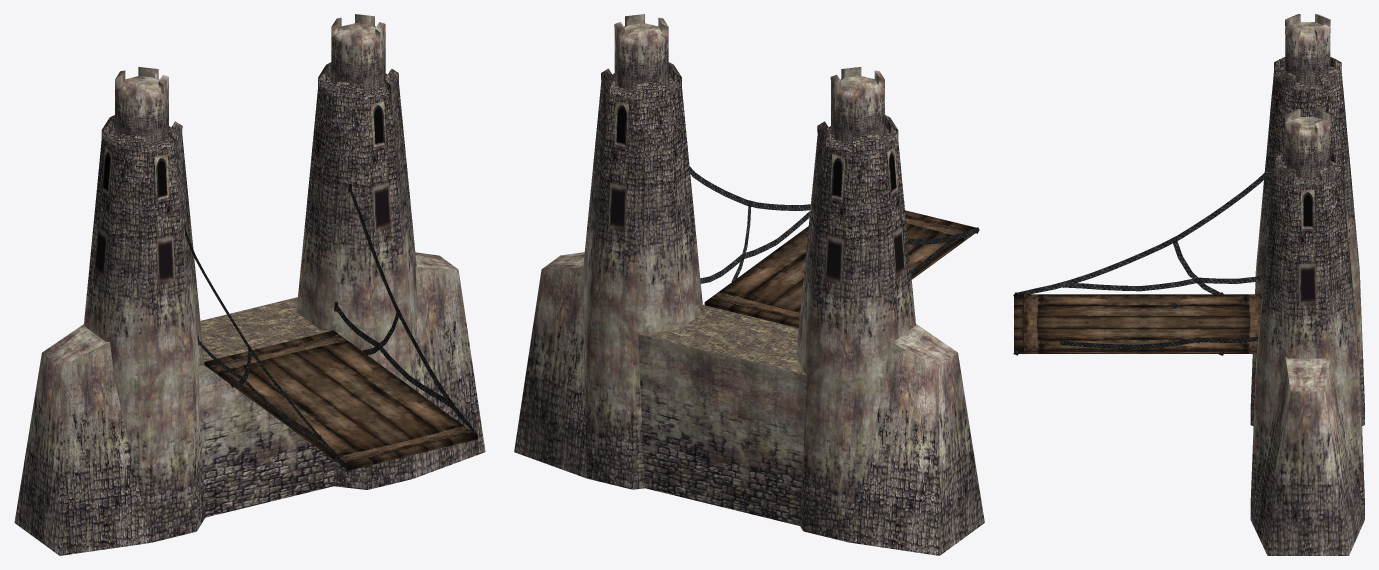
Rendered from pir_m_bld_frt_drawbridge_open.fbx.
3 renders of one model, left to right at view 1: azimuth 30°, elevation 25°; view 2: azimuth 150°, elevation 25°; view 3: azimuth 270°, elevation 25°, orthographic. The views are drawn at different scales.
Visible parts, largest first — view 1: towerBase.001, towerBase, foundationWall_right1, bridge, foundationWall_center, foundationWall_right, foundationFloor, foundationTop_right1, chainLong_right, chainLong_left, frontWindow_bottom.001, frontWindow_bottom (+4 smaller); view 2: towerBase, towerBase.001, foundationWall_center, foundationWall_right1, foundationWall_right, bridge, foundationFloor, foundationTop_right1, backWindow_bottom, backWindow_bottom.001, chainLong_right, chainMedium_right (+2 smaller); view 3: towerBase, foundationWall_right, bridge, towerBase.001, chainLong_left, foundationTop_right, chainMedium_left, chainMedium_right, sideWindow_bottom, sideWindow_top.
Boxes of the visible parts, bbox=[...] form: towerBase.001: bbox=[84, 67, 205, 542]; towerBase: bbox=[296, 14, 417, 489]; foundationWall_right1: bbox=[14, 342, 150, 555]; bridge: bbox=[204, 330, 477, 470]; foundationWall_center: bbox=[198, 332, 340, 517]; foundationWall_right: bbox=[413, 267, 485, 478]; foundationFloor: bbox=[199, 297, 340, 366]; foundationTop_right1: bbox=[42, 324, 109, 366]; chainLong_right: bbox=[350, 186, 477, 435]; chainLong_left: bbox=[184, 227, 348, 468]; frontWindow_bottom.001: bbox=[156, 236, 174, 285]; frontWindow_bottom: bbox=[373, 183, 391, 232]; towerBase: bbox=[582, 14, 703, 489]; towerBase.001: bbox=[796, 67, 915, 542]; foundationWall_center: bbox=[638, 334, 806, 525]; foundationWall_right1: bbox=[849, 341, 984, 555]; foundationWall_right: bbox=[514, 267, 586, 478]; bridge: bbox=[704, 210, 975, 328]; foundationFloor: bbox=[639, 304, 806, 375]; foundationTop_right1: bbox=[891, 324, 957, 365]; backWindow_bottom: bbox=[608, 183, 626, 232]; backWindow_bottom.001: bbox=[825, 235, 843, 284]; chainLong_right: bbox=[689, 166, 810, 210]; chainMedium_right: bbox=[700, 211, 810, 283]; towerBase: bbox=[1250, 109, 1364, 519]; foundationWall_right: bbox=[1251, 357, 1364, 555]; bridge: bbox=[1014, 294, 1262, 353]; towerBase.001: bbox=[1250, 14, 1364, 426]; chainLong_left: bbox=[1014, 164, 1273, 294]; foundationTop_right: bbox=[1285, 357, 1330, 391]; chainMedium_left: bbox=[1064, 274, 1263, 291]; chainMedium_right: bbox=[1063, 336, 1258, 348]; sideWindow_bottom: bbox=[1299, 264, 1316, 305]; sideWindow_top: bbox=[1301, 190, 1314, 231].
Bounding box in the file's own units: 10228 × 10058 × 8145.
4 materials, 4 textured.
